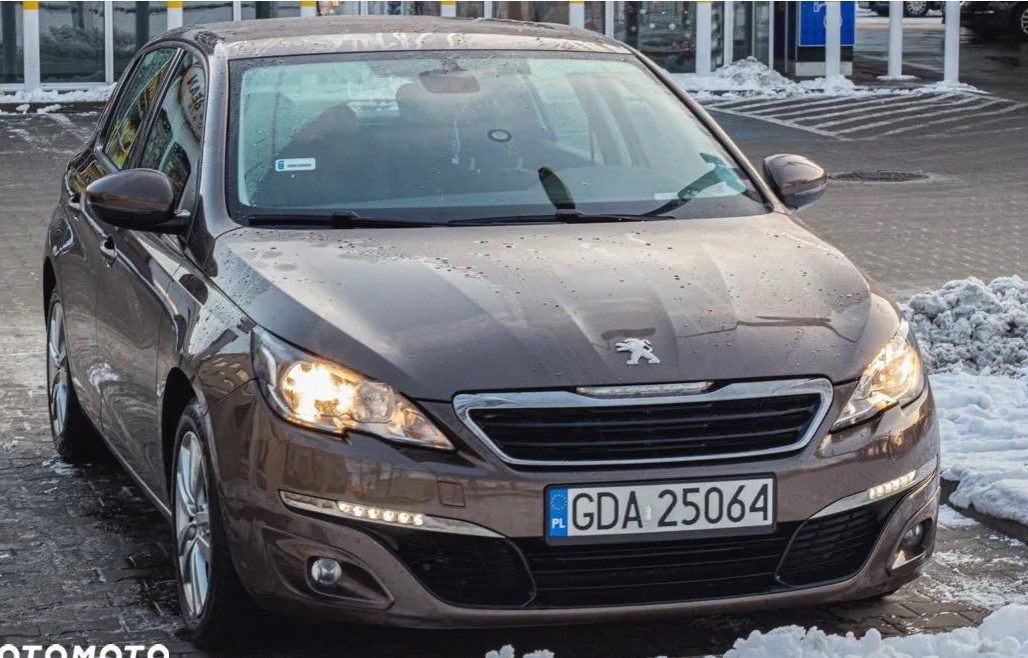number_plate: (526, 469, 795, 550)
